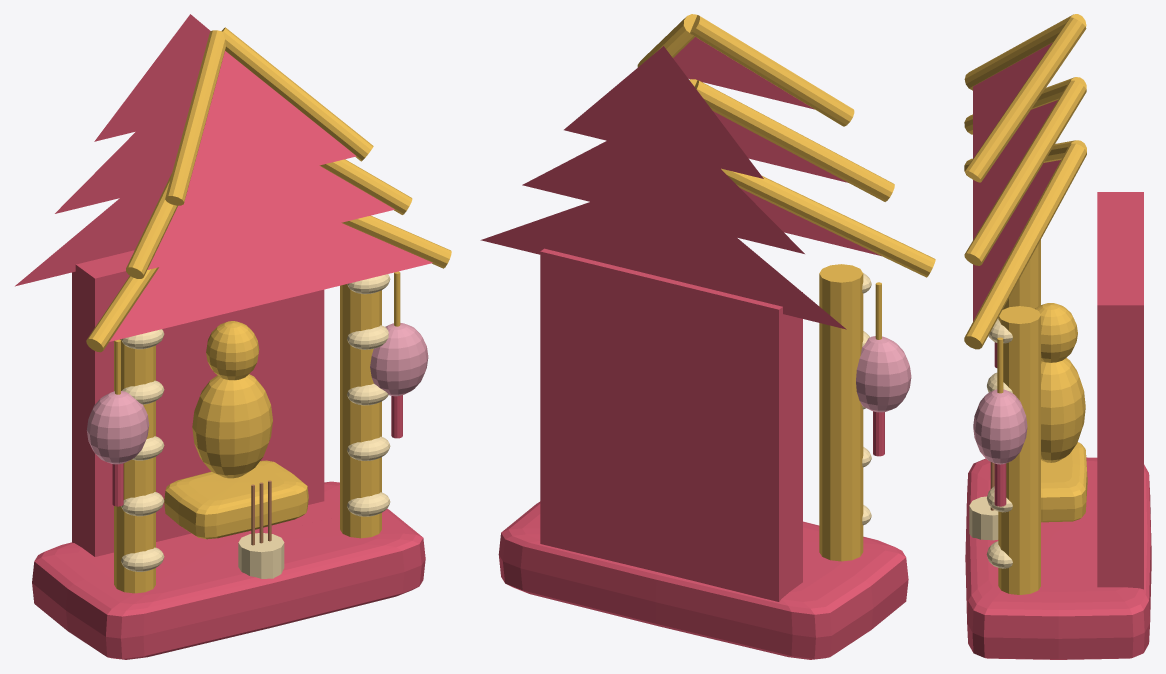
The model's file is wall-shrine.glb.
The picture shows the model from 3 angles, left to right: view 1: azimuth 30°, elevation 25°; view 2: azimuth 150°, elevation 25°; view 3: azimuth 270°, elevation 25°; orthographic projection. The views are drawn at different scales.
Visible parts, largest first — view 1: wall-shrine; view 2: wall-shrine; view 3: wall-shrine.
Part boxes in pixels (x1,y1,x2,y2): wall-shrine: (15, 14, 451, 659); wall-shrine: (480, 14, 935, 659); wall-shrine: (964, 14, 1151, 659).
Size of the model in its own units: 1.09 by 1.62 by 0.4832.
